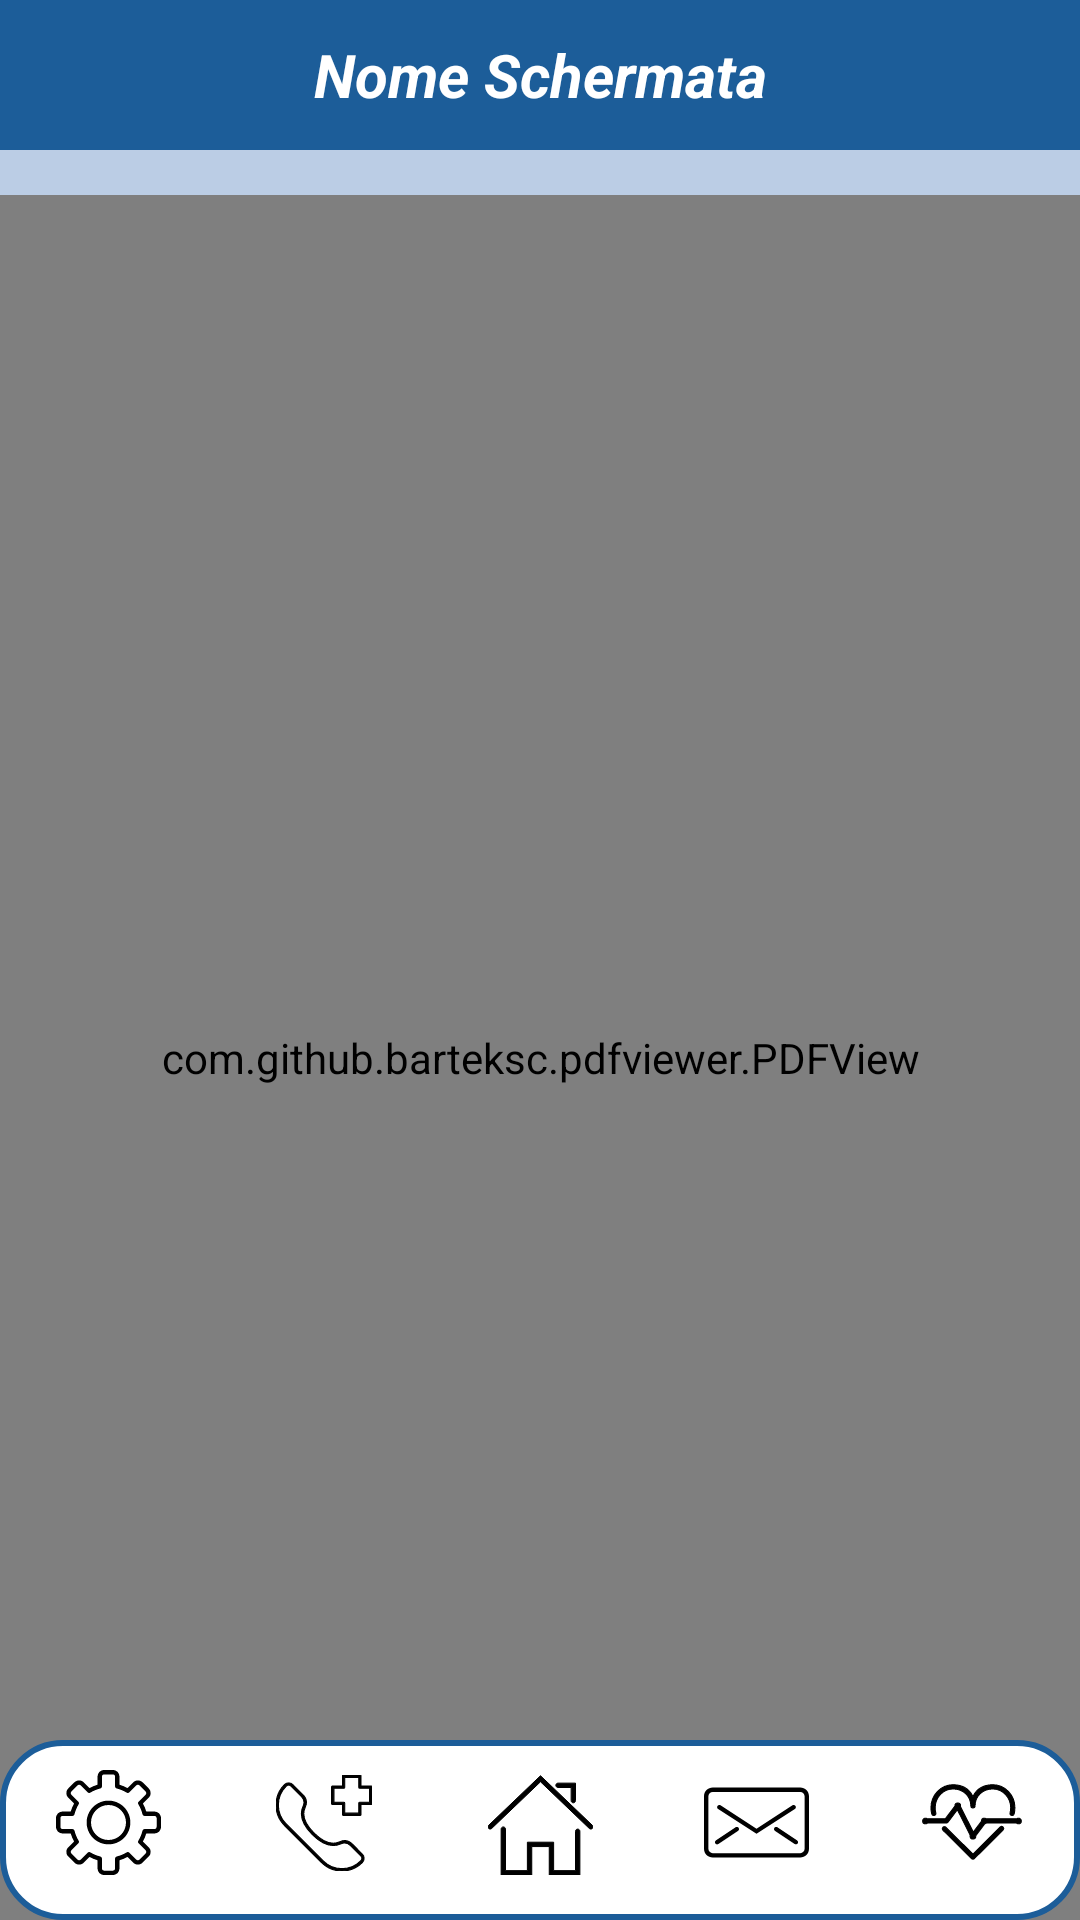

Screen size 1080px×1920px. Icon name, then its center in pixels as [x,y]:
home: [540,1825]
message: [756,1822]
misurazioni: [972,1822]
setting: [108,1822]
sos: [324,1823]
